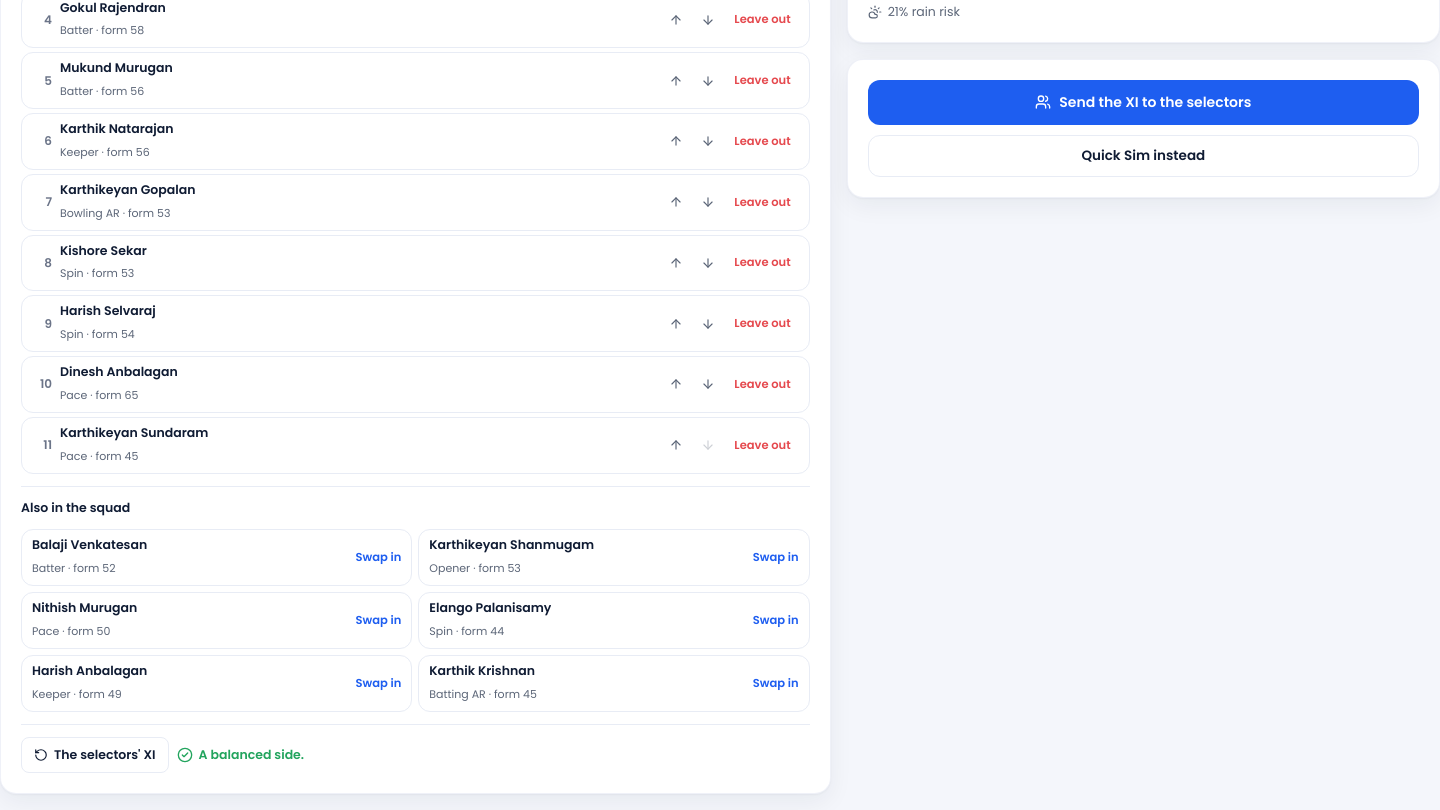
Test: match screens: captain mode › lets a captain swap a squad player into a full XI in two taps
(page scrolled)
Click the button "Balaji Venkatesan Batter · form 52 Swap in" at {"x": 90, "y": 545}, box 21,529 -> 412,586
(page scrolled)
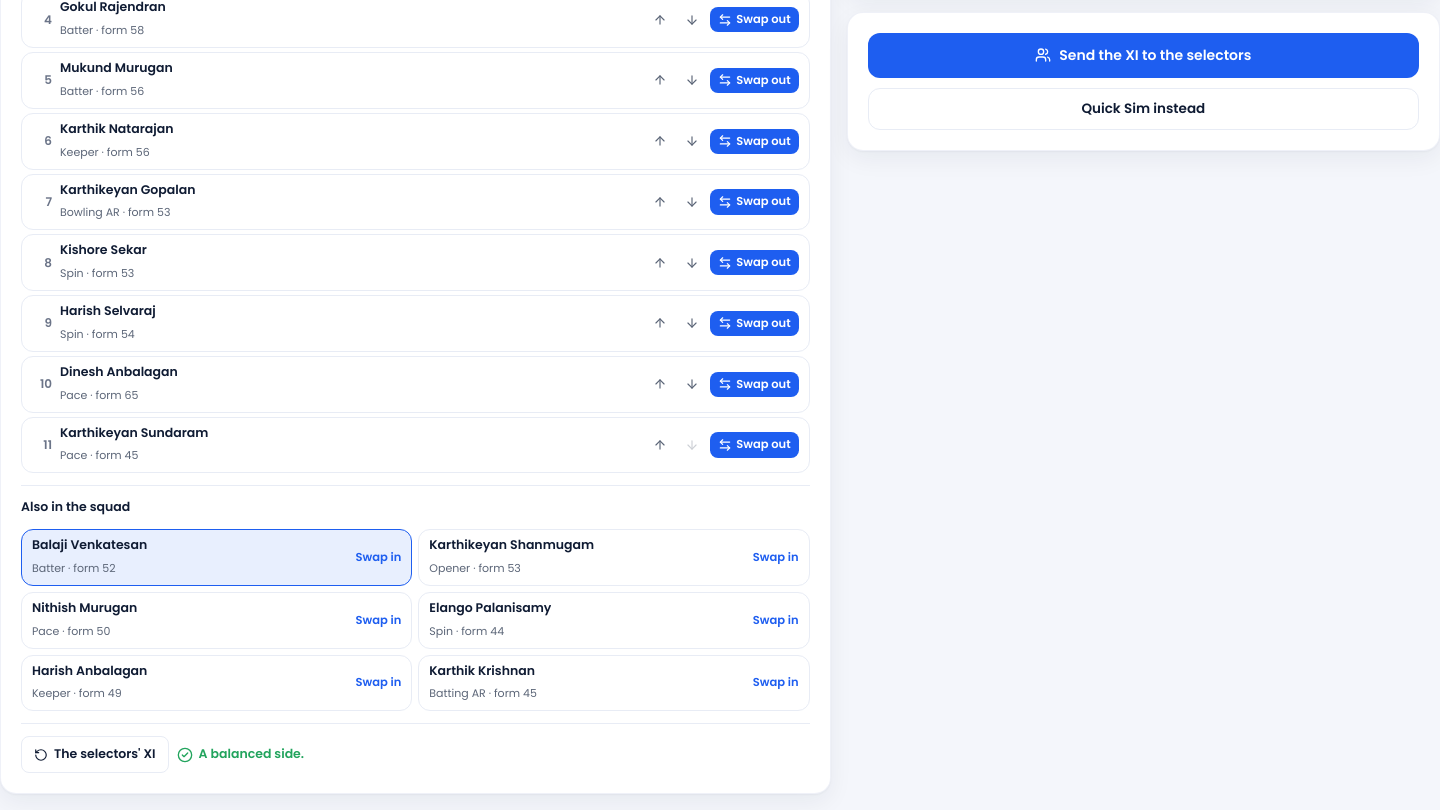
Result: the number of buttons "Swap out" is 11
Click the button "Swap out" in the row of "Karthikeyan Sundaram" at {"x": 754, "y": 445}, box 710,432 -> 799,458
(page scrolled)
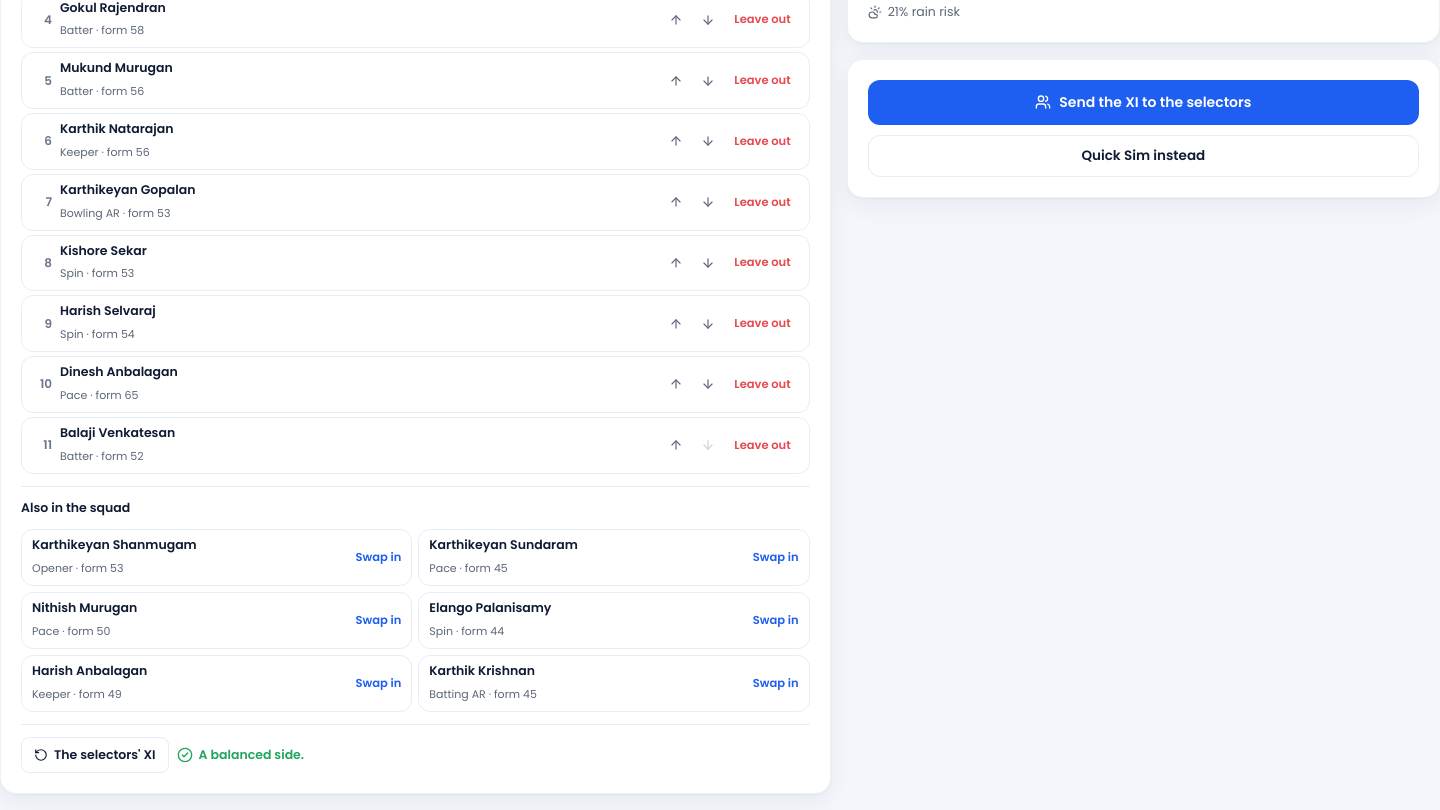
Expected: the button "Send the XI to the selectors" is enabled, 868,80 -> 1419,124
Result: the button "Swap out" is gone
